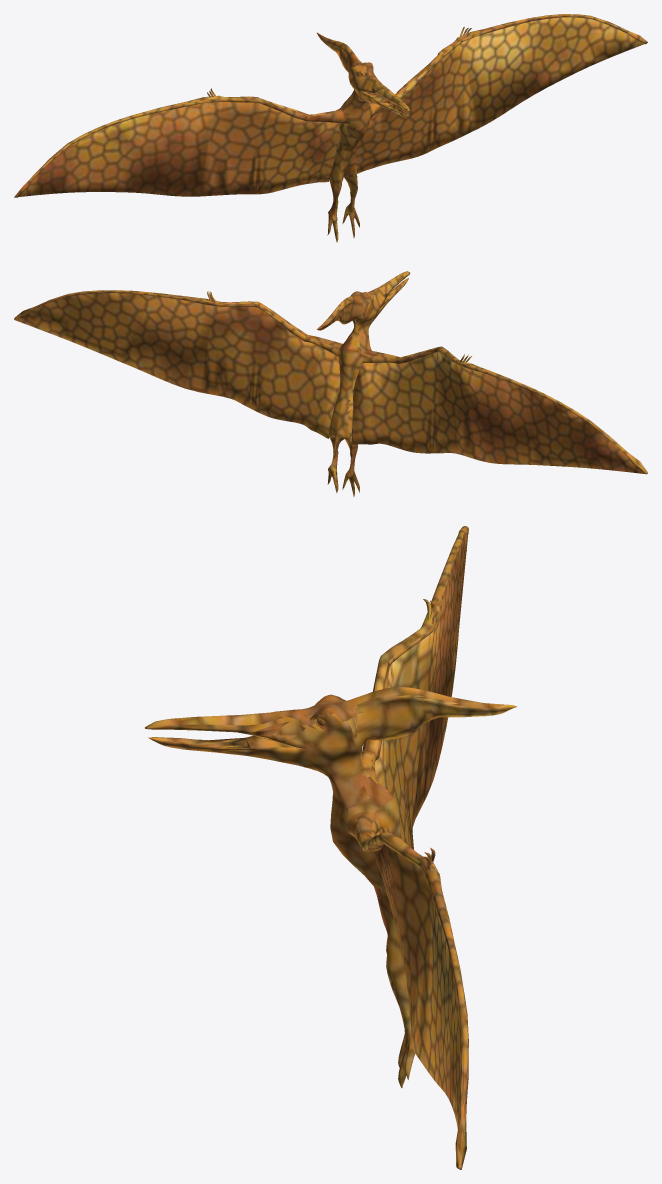
File: dino5.obj
The picture shows the model from 3 angles, top to bottom: view 1: azimuth 30°, elevation 25°; view 2: azimuth 150°, elevation 25°; view 3: azimuth 270°, elevation 25°; orthographic projection. The views are drawn at different scales.
Parts seen in each view (by area): view 1: pter_iris; view 2: pter_iris; view 3: pter_iris.
Boxes of the visible parts, left/top/right/bottom form: pter_iris: left=14, top=14, right=647, bottom=242; pter_iris: left=14, top=271, right=647, bottom=496; pter_iris: left=145, top=526, right=516, bottom=1169.
Bounding box in the file's own units: 1.47 × 0.4361 × 0.3743.
Materials: 1 (1 with a texture image).
